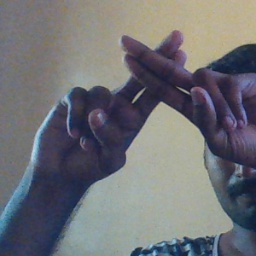F: (84, 25, 238, 145)
